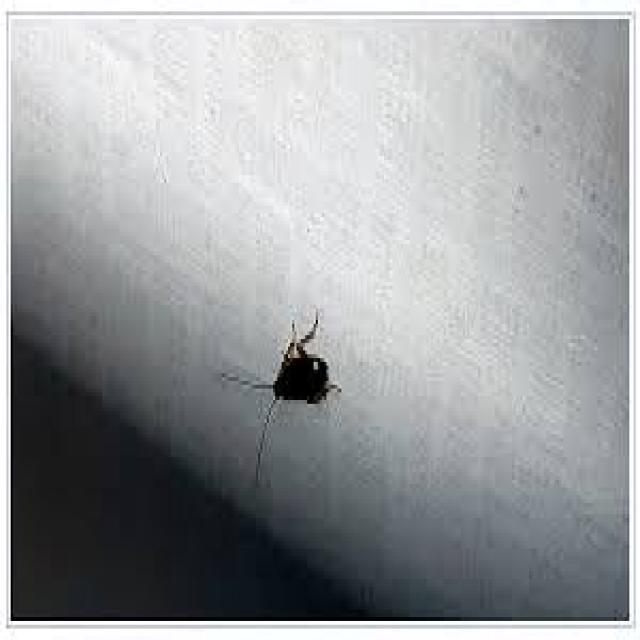Cockroach: (215, 303, 343, 501)
